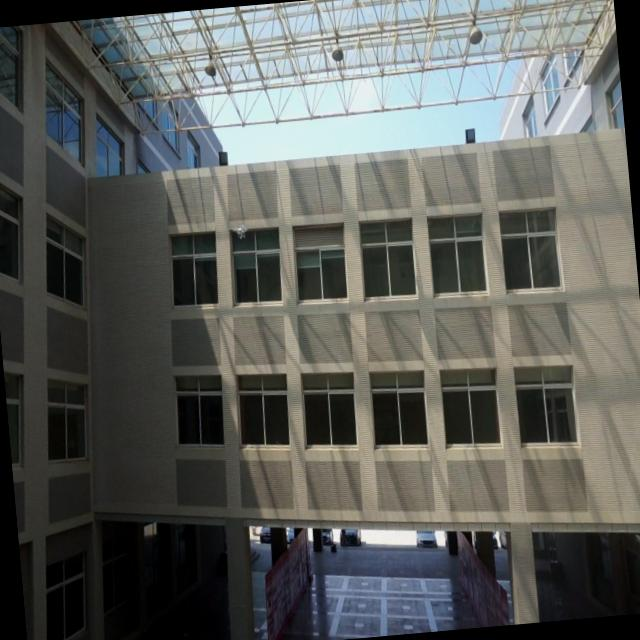drone: (233, 221, 248, 240)
